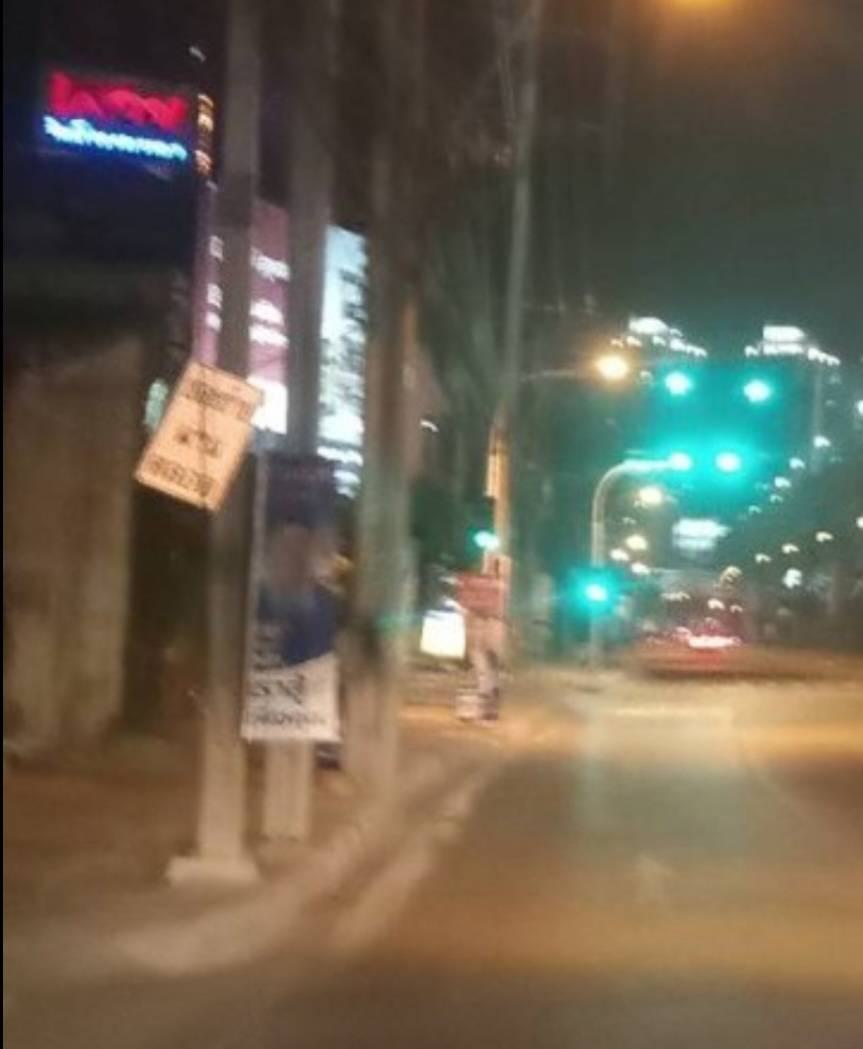Banner: (251, 450, 339, 737), (460, 576, 502, 721)
